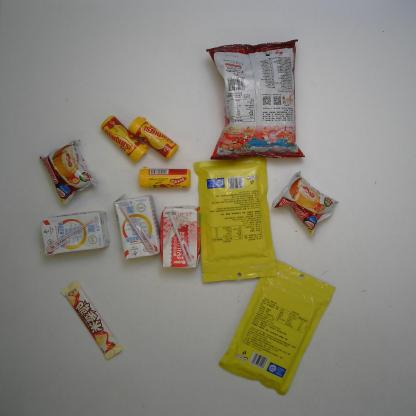Candy: (126, 113, 181, 162), (98, 113, 149, 165), (136, 164, 192, 192)
Chocolate: (59, 278, 126, 363)
Dessert: (270, 168, 340, 237), (36, 136, 102, 207)
Dried Fruit: (215, 256, 339, 398), (189, 152, 281, 286)
Milk: (112, 191, 164, 262), (38, 209, 111, 258), (158, 204, 203, 271)
Puffed Food: (203, 36, 308, 163)
